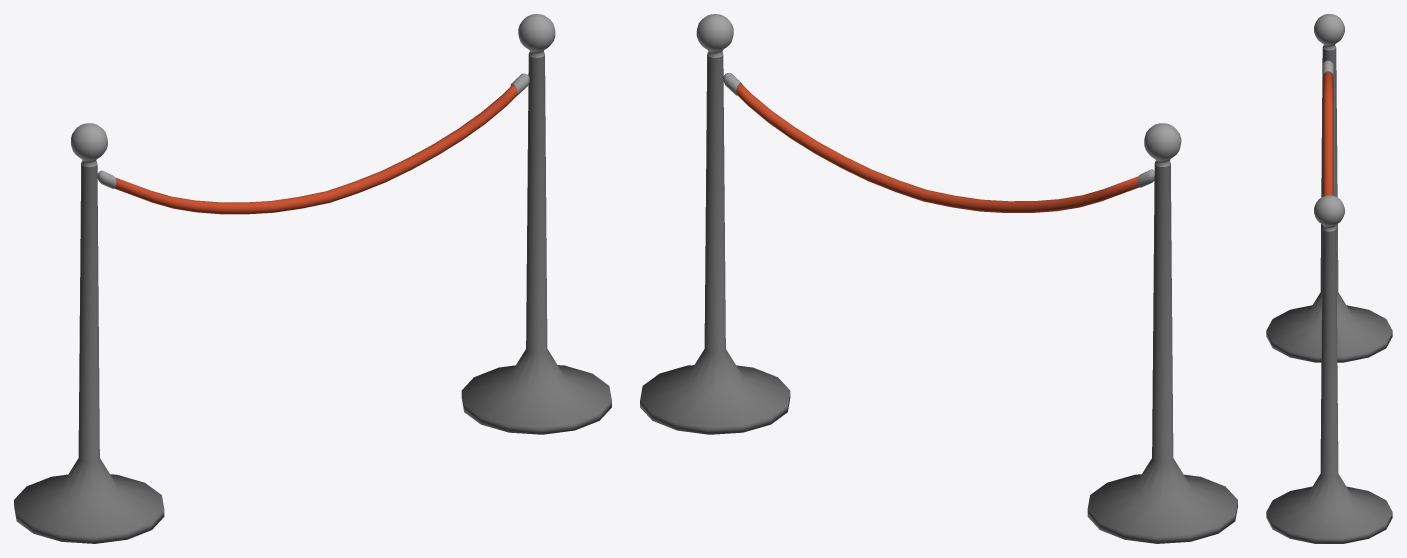
The model's file is MuseumBarrier_Single.fbx.
3 views of the same model, side by side, from view 1: azimuth 30°, elevation 25°; view 2: azimuth 150°, elevation 25°; view 3: azimuth 270°, elevation 25° (orthographic). The views are drawn at different scales.
Parts seen in each view (by area): view 1: MuseumBarrier_Single; view 2: MuseumBarrier_Single; view 3: MuseumBarrier_Single.
Boxes of the visible parts, x1,y1,x2,y2 form: MuseumBarrier_Single: (14, 14, 611, 543); MuseumBarrier_Single: (640, 14, 1237, 543); MuseumBarrier_Single: (1266, 14, 1392, 543).
Bounding box in the file's own units: 233 × 150 × 53.32.
